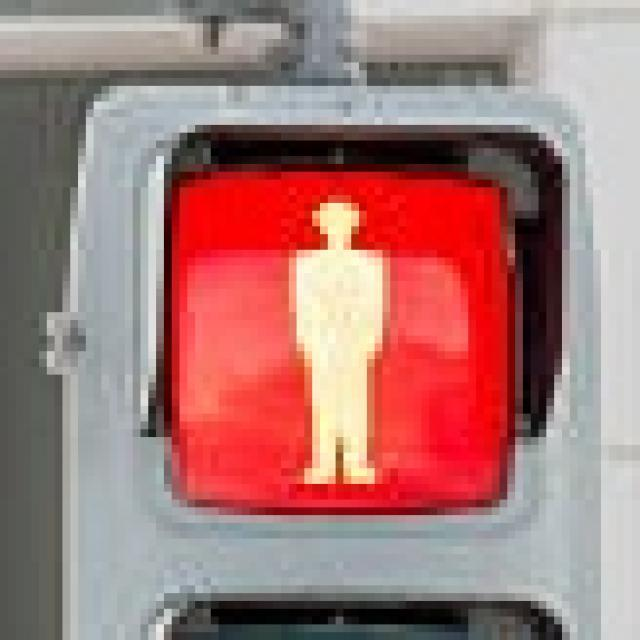red_light: (218, 163, 444, 508)
